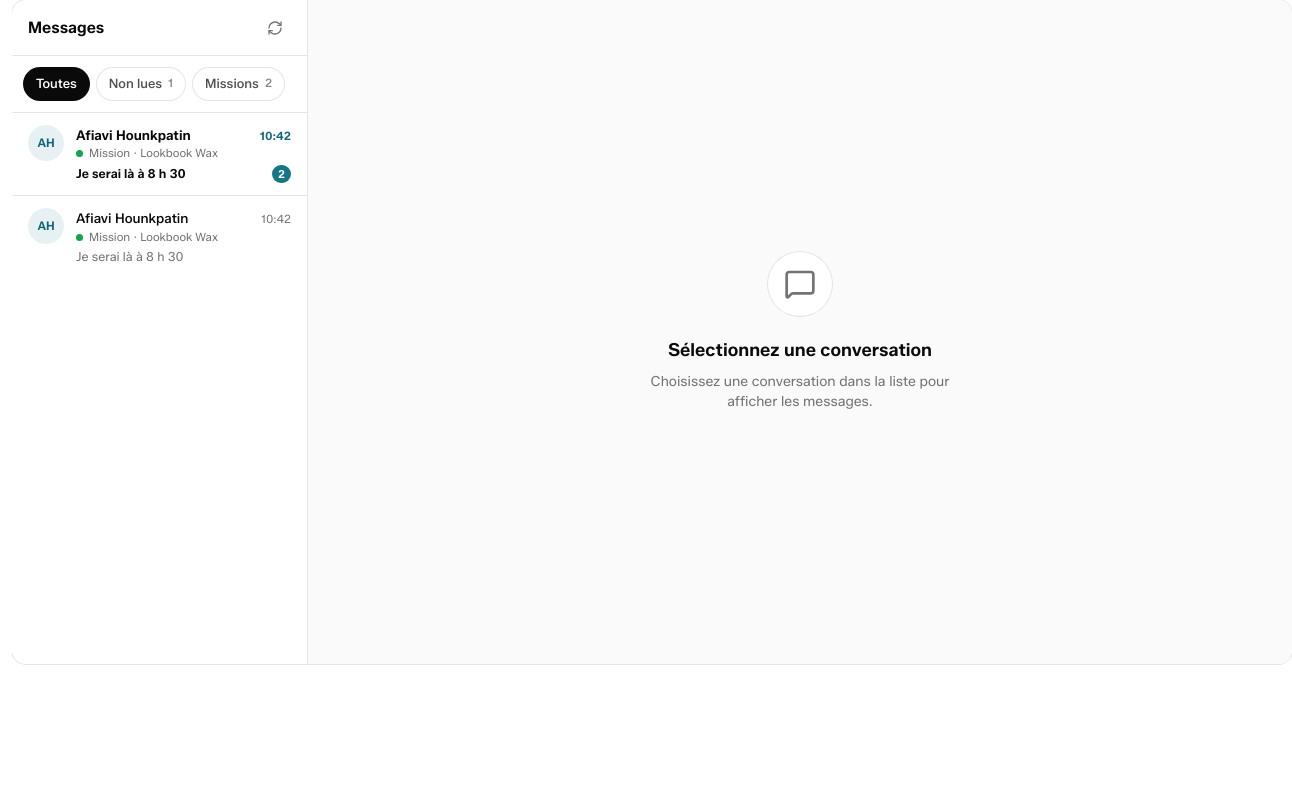
MessagesWorkspace — desktop › sans entité liée : le panneau se limite à l’autre participant
Click the button with test id "conversation-item": (160, 154) [12,113,307,195]
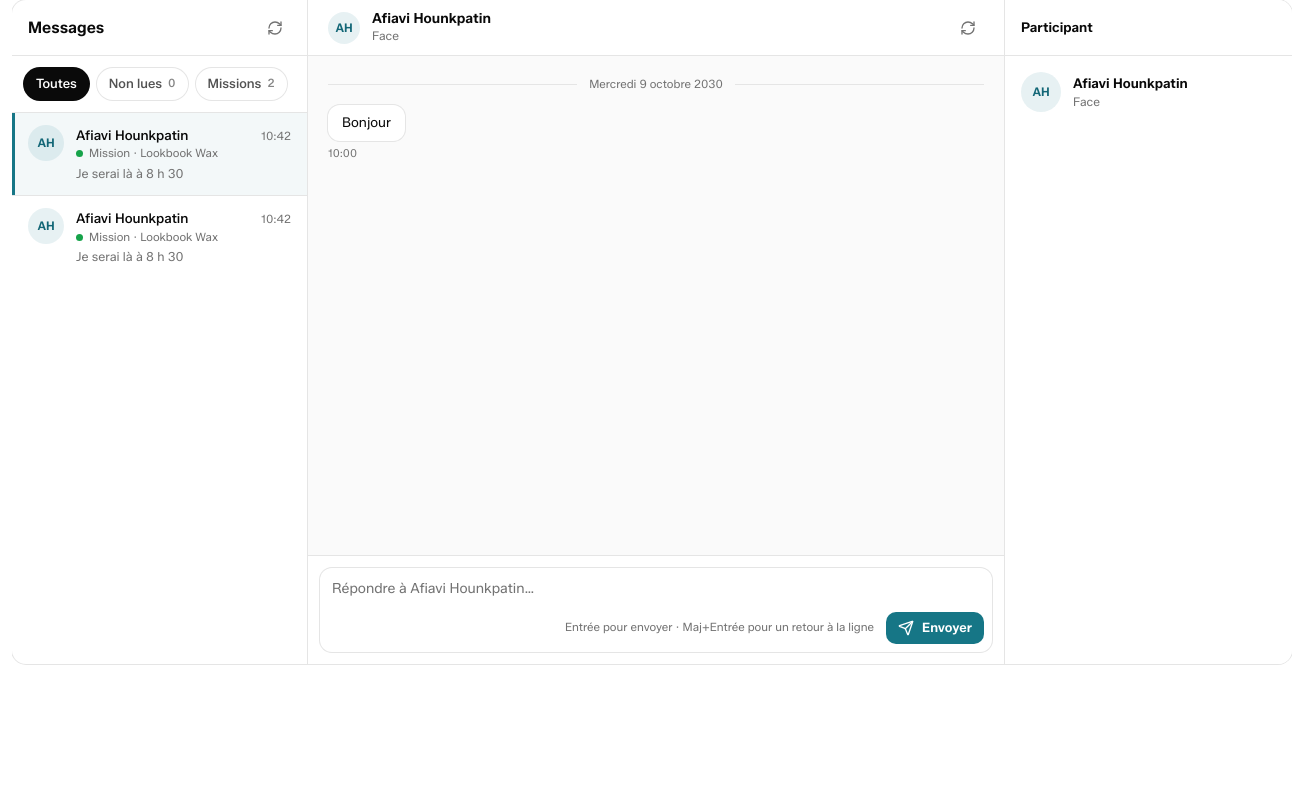
Result: the element with test id "context-participant-only" shows "Afiavi Hounkpatin" at [1073,75,1188,91]
